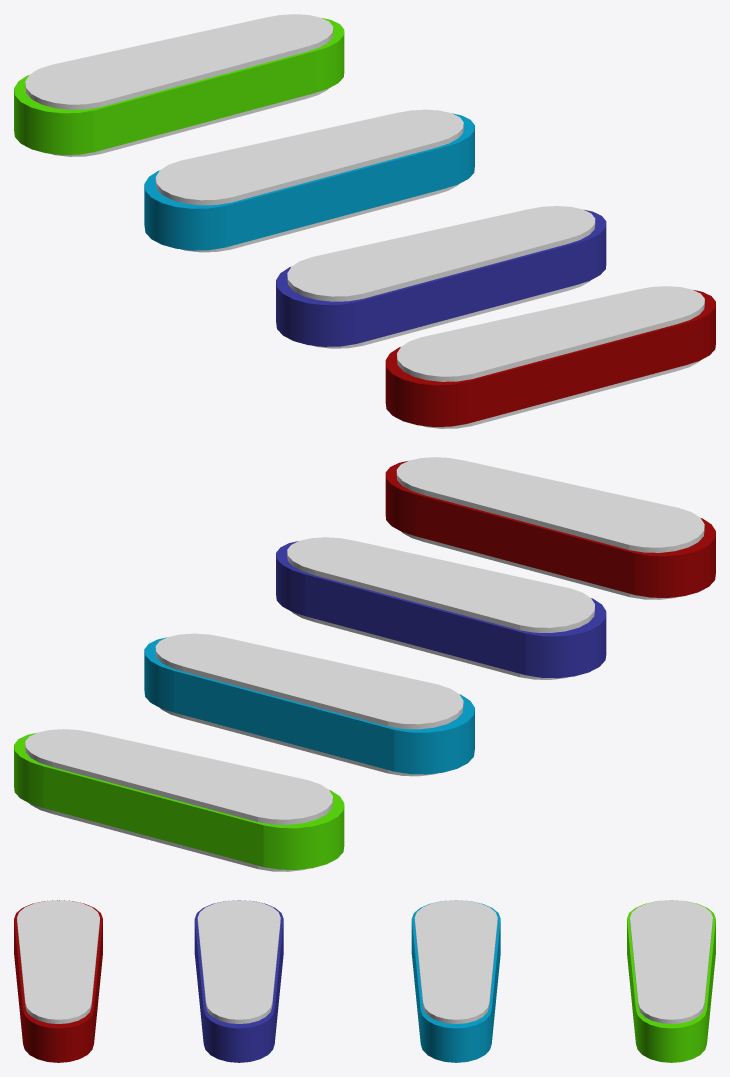
The model's file is PinballSets3.fbx.
3 views of the same model, one above another, from view 1: azimuth 30°, elevation 25°; view 2: azimuth 150°, elevation 25°; view 3: azimuth 270°, elevation 25° (orthographic). The views are drawn at different scales.
Visible parts, largest first — view 1: flipper1_4, flipper1_3, flipper1_2, flipper1_5, flippers2, flippers3, flippers4, flippers1; view 2: flipper1_4, flipper1_5, flipper1_3, flipper1_2, flippers3, flippers1, flippers4, flippers2; view 3: flippers2, flippers3, flippers1, flippers4, flipper1_3, flipper1_4, flipper1_2, flipper1_5.
Boxes of the visible parts, x1,y1,x2,y2 form: flipper1_4: (144,113,474,250); flipper1_3: (276,209,606,346); flipper1_2: (385,290,715,426); flipper1_5: (14,18,344,154); flippers2: (287,206,595,348); flippers3: (155,109,463,252); flippers4: (25,14,333,156); flippers1: (397,286,704,428); flipper1_4: (144,637,474,774); flipper1_5: (14,733,344,869); flipper1_3: (276,541,606,678); flipper1_2: (385,461,715,597); flippers3: (155,633,463,776); flippers1: (396,457,704,599); flippers4: (25,729,332,871); flippers2: (287,537,594,679); flippers2: (197,900,280,1023); flippers3: (414,900,497,1023); flippers1: (17,900,99,1023); flippers4: (630,900,712,1023); flipper1_3: (194,900,283,1062); flipper1_4: (411,900,500,1062); flipper1_2: (14,900,102,1062); flipper1_5: (627,900,715,1062).
Size of the model in its own units: 6.82 by 1.07 by 15.76.
